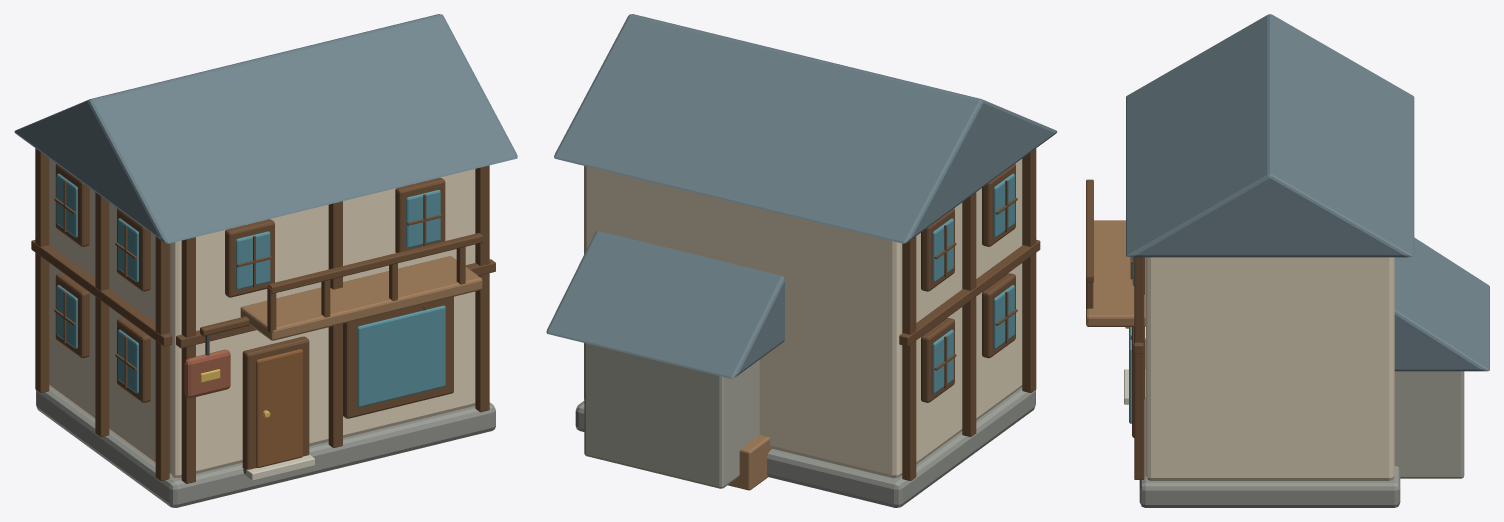
The model's file is temperate-merchant-3.glb.
The picture shows the model from 3 angles, left to right: view 1: azimuth 30°, elevation 25°; view 2: azimuth 150°, elevation 25°; view 3: azimuth 270°, elevation 25°; orthographic projection. The views are drawn at different scales.
Parts seen in each view (by area): view 1: Blue slate, Dark beams, Warm lime, Blue glass, Foundation stone, Aged oak, Door oak, Painted sign, Cut limestone; view 2: Blue slate, Warm lime, Fieldstone, Dark beams, Foundation stone, Blue glass, Aged oak; view 3: Blue slate, Warm lime, Fieldstone, Foundation stone, Aged oak, Dark beams.
Boxes of the visible parts, left/top/right/bottom form: Blue slate: left=14, top=14, right=517, bottom=243; Dark beams: left=31, top=148, right=495, bottom=483; Warm lime: left=49, top=158, right=475, bottom=478; Blue glass: left=56, top=173, right=445, bottom=407; Foundation stone: left=36, top=387, right=495, bottom=507; Aged oak: left=240, top=256, right=482, bottom=340; Door oak: left=256, top=349, right=302, bottom=467; Painted sign: left=184, top=349, right=230, bottom=398; Cut limestone: left=241, top=454, right=314, bottom=480; Blue slate: left=546, top=14, right=1057, bottom=378; Warm lime: left=584, top=159, right=1022, bottom=478; Fieldstone: left=584, top=343, right=759, bottom=488; Dark beams: left=899, top=148, right=1040, bottom=480; Foundation stone: left=575, top=387, right=1035, bottom=507; Blue glass: left=932, top=173, right=1014, bottom=393; Aged oak: left=728, top=435, right=771, bottom=490; Blue slate: left=1126, top=14, right=1489, bottom=371; Warm lime: left=1145, top=257, right=1394, bottom=480; Fieldstone: left=1394, top=371, right=1464, bottom=478; Foundation stone: left=1139, top=338, right=1400, bottom=507; Aged oak: left=1086, top=220, right=1145, bottom=326; Dark beams: left=1086, top=179, right=1144, bottom=479.
Size of the model in its own units: 3.94 by 3.86 by 4.14.
